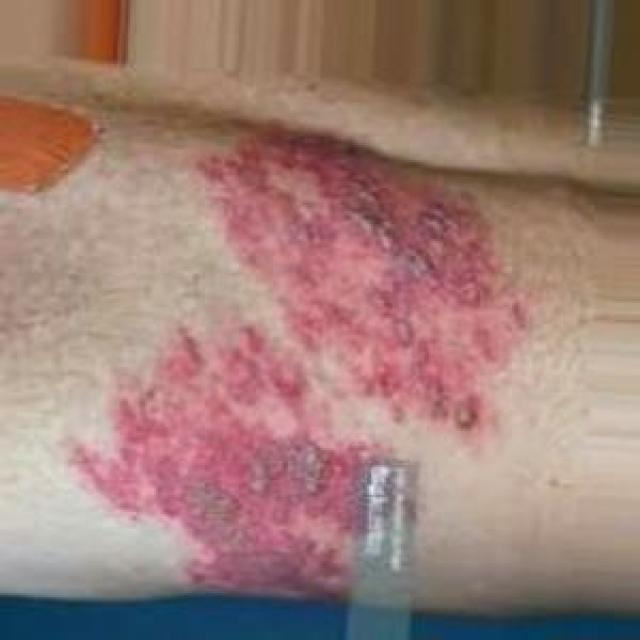Shingles: (196, 110, 516, 442), (72, 321, 384, 614)
